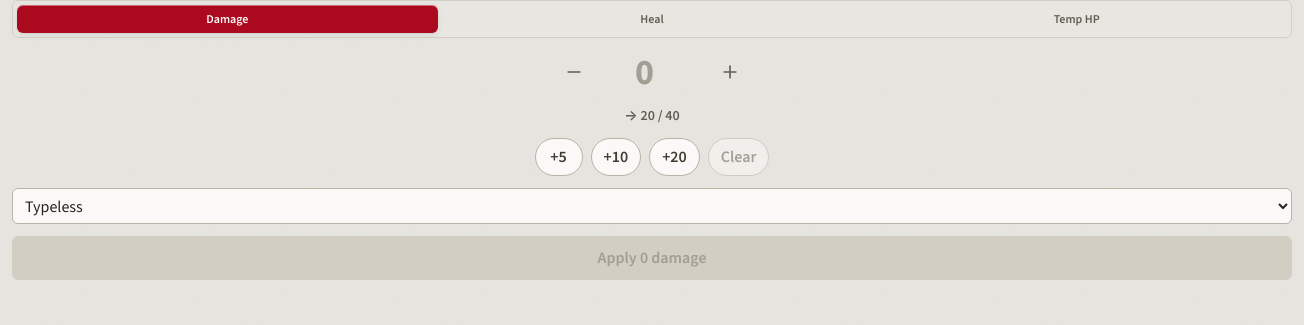
Test: HpActionControl projected-result line (#796) › projects the halved amount when the damage type is resisted (#456)
The width and height of the screenshot is (1304, 325).
Click the button named "Add 10" at (616, 157), box [590, 138, 641, 176]
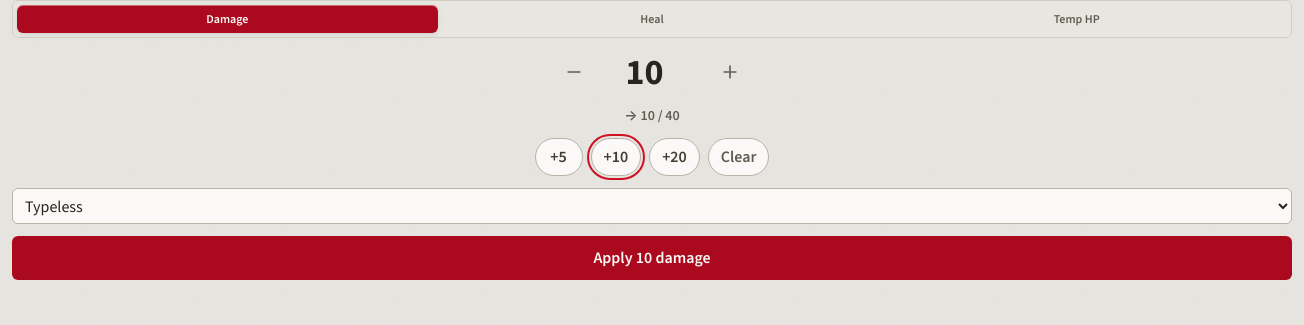
Click the button named "Increase amount" at (730, 72), box [708, 50, 752, 94]
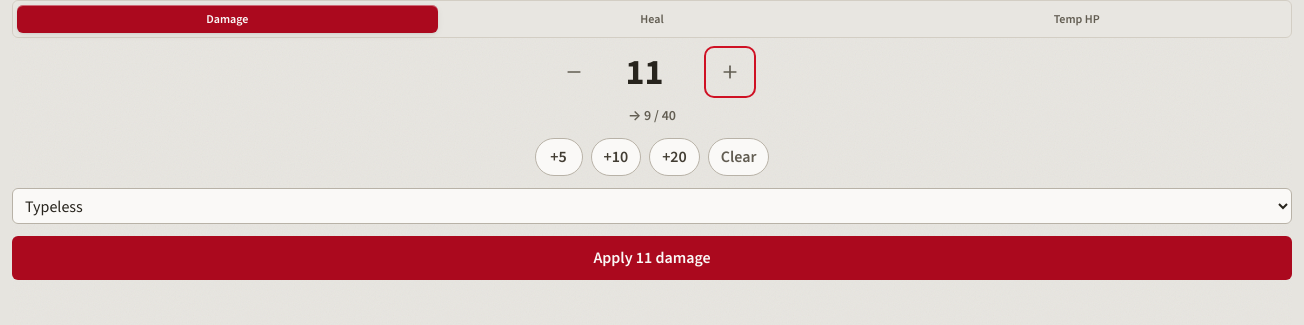
Click the button named "Increase amount" at (730, 72), box [708, 50, 752, 94]
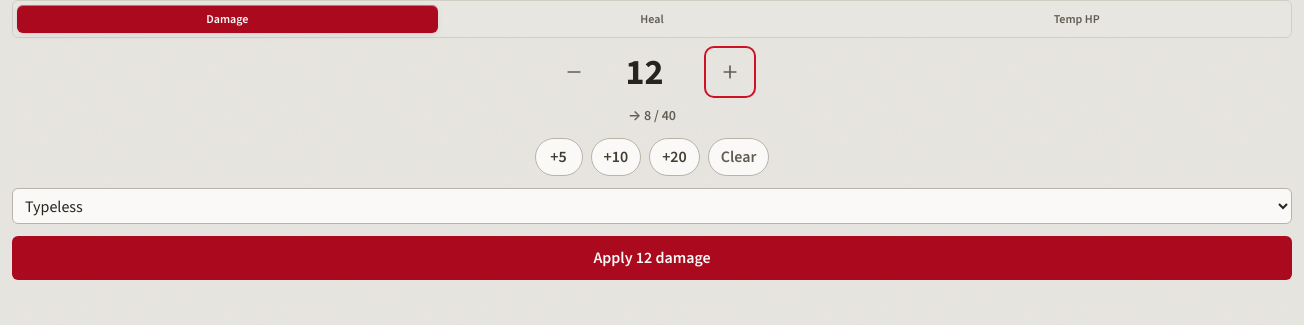
Select "Slashing" in the dropdown named "damage type" at (652, 206), box [12, 188, 1292, 224]
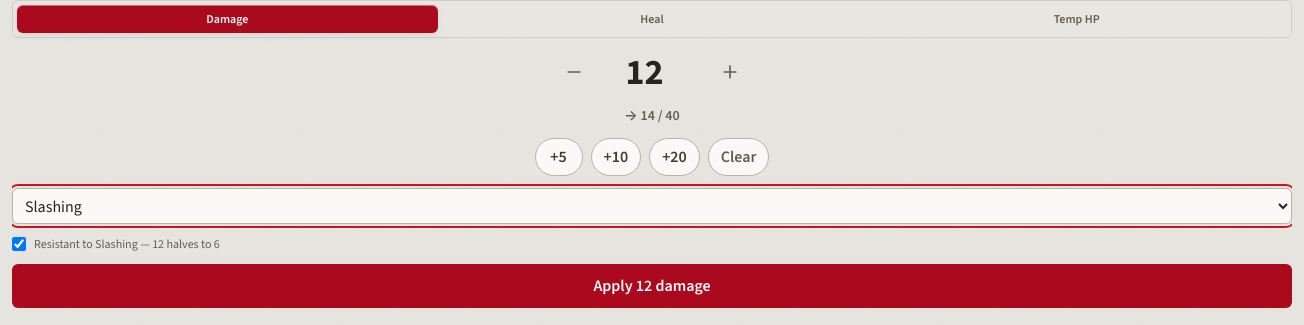
Expected: the text "→ 14 / 40" is shown, [624, 106, 680, 125]
